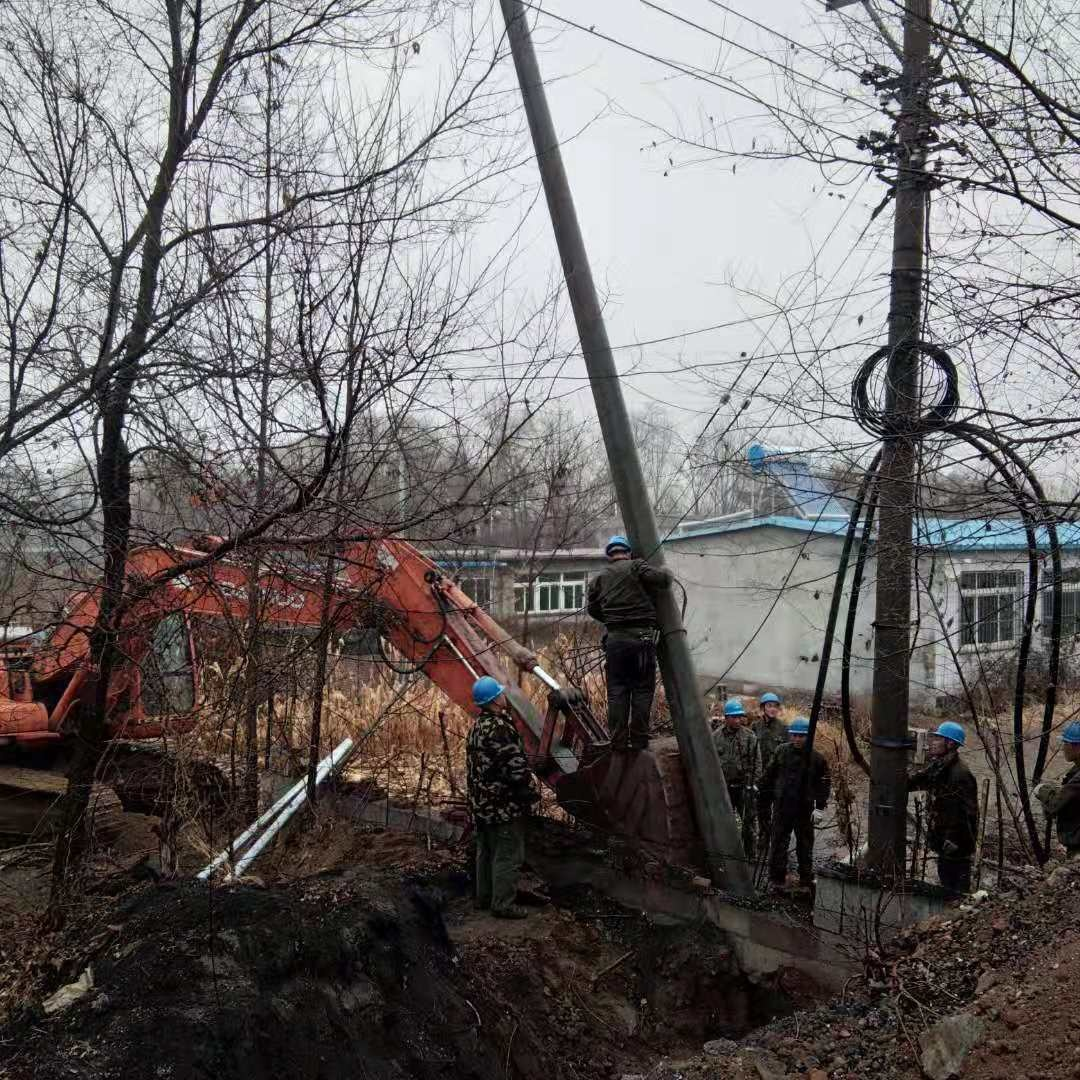blue: (471, 675, 508, 714), (930, 719, 965, 760), (1057, 717, 1080, 763), (602, 533, 632, 562), (723, 697, 746, 730), (791, 714, 811, 749), (759, 691, 779, 720)
